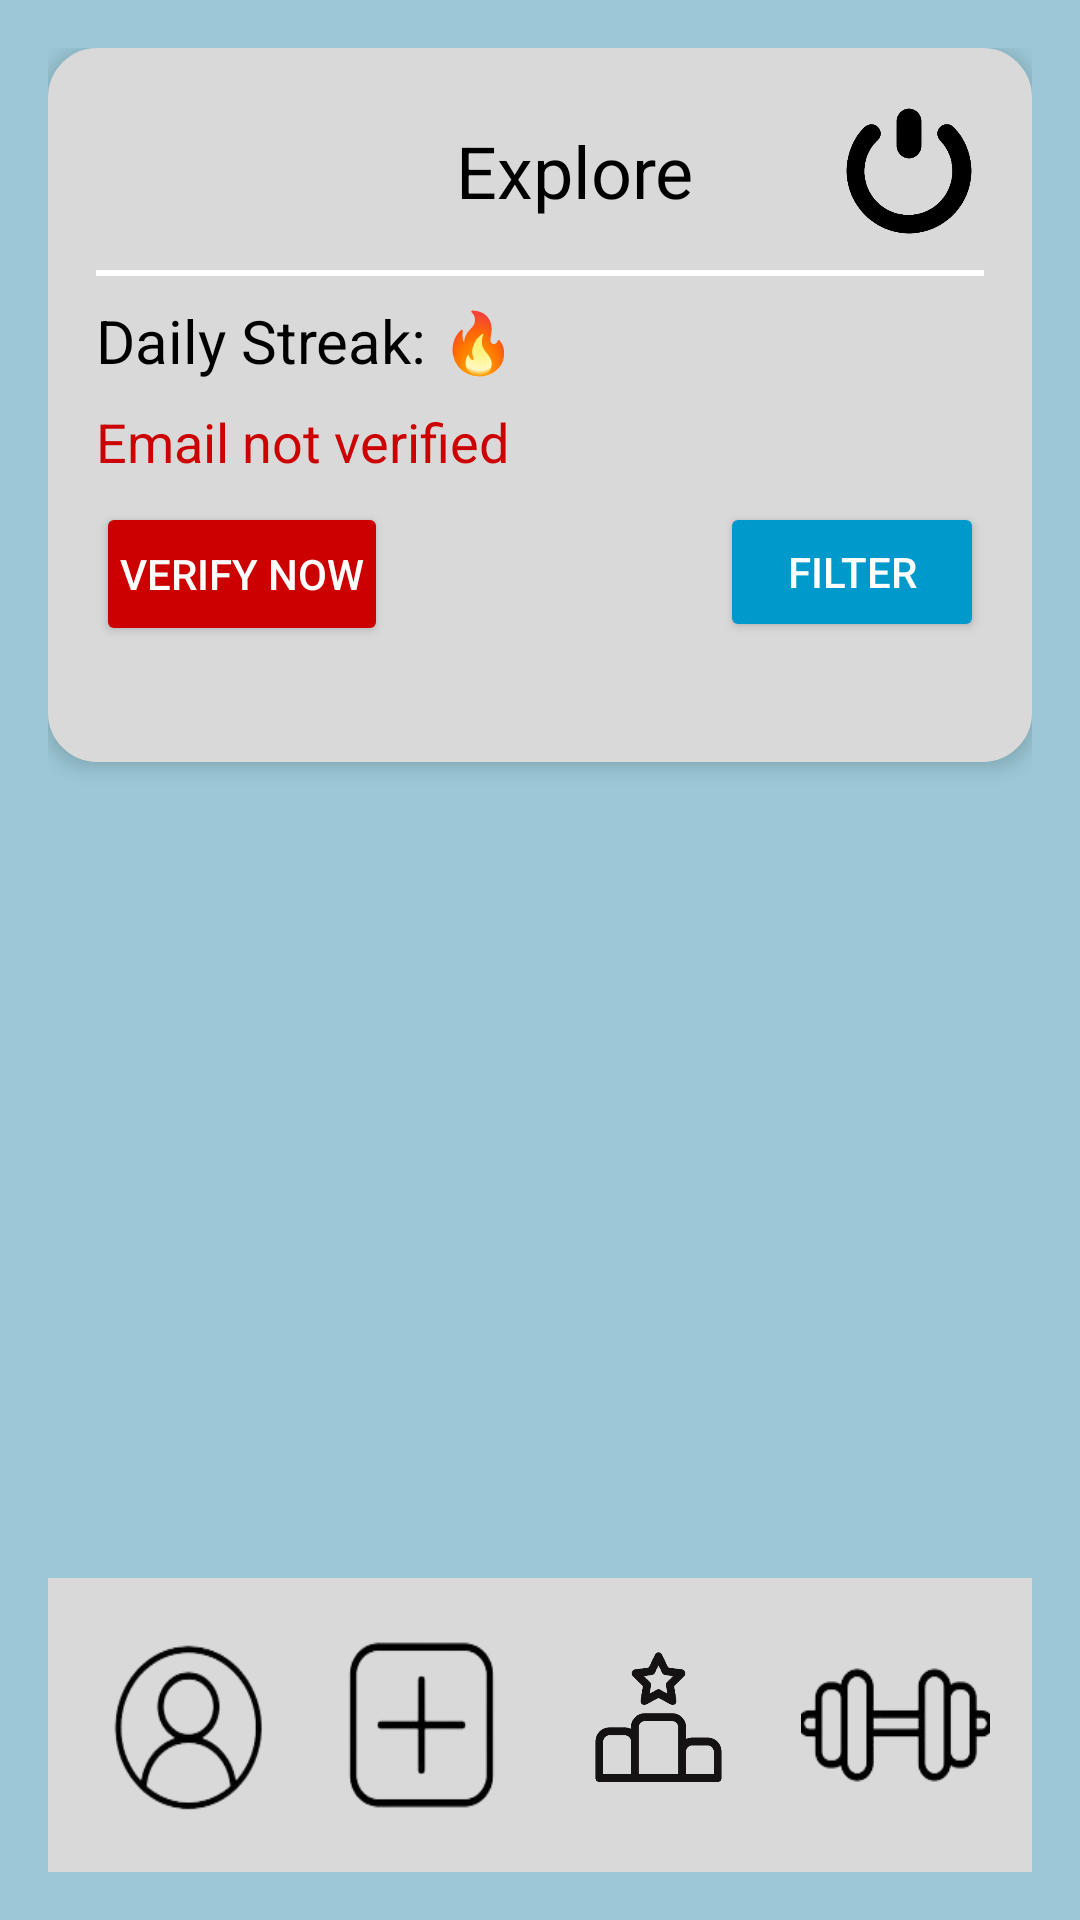

Named icons in this screenshot (1080px×1920px) and their centers, point (x, y):
add: point (421, 1725)
dumble: point (895, 1725)
loggout: point (909, 171)
personal: point (188, 1727)
scoreboard: point (658, 1717)
